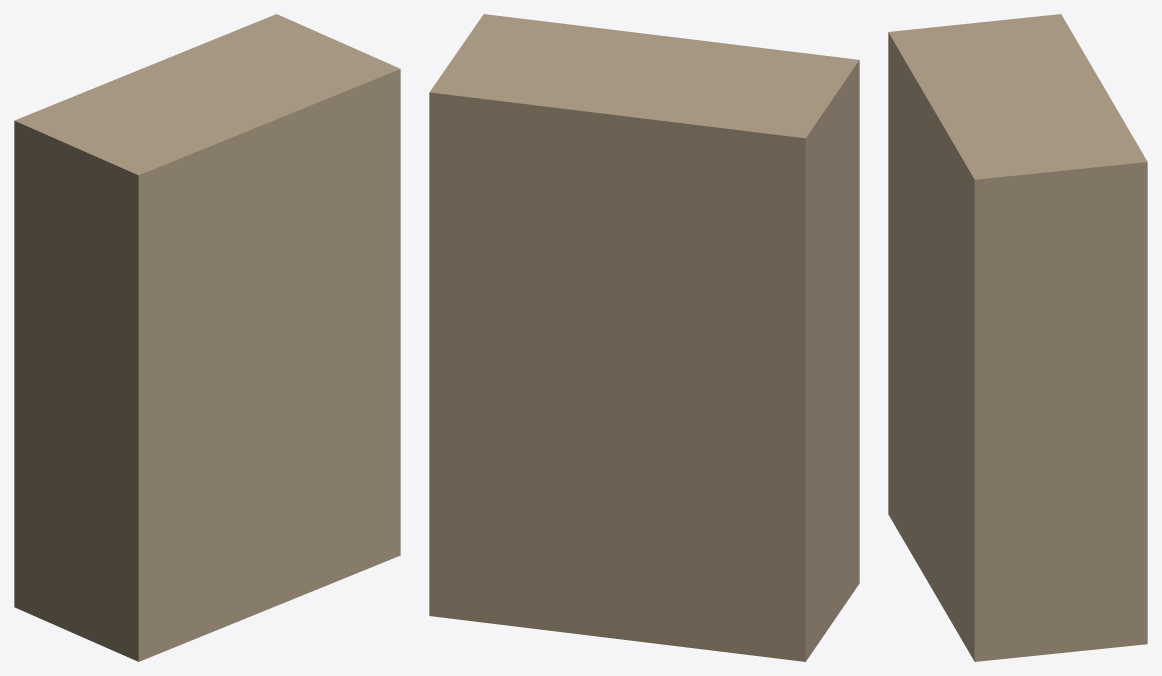
Rendered from bld_107639308.dae.
3 views of the same model, side by side, from view 1: azimuth 30°, elevation 25°; view 2: azimuth 150°, elevation 25°; view 3: azimuth 270°, elevation 25° (orthographic). The views are drawn at different scales.
Parts seen in each view (by area): view 1: bld_107639308; view 2: bld_107639308; view 3: bld_107639308.
Part boxes in pixels (x1,y1,x2,y2): bld_107639308: (14, 14, 400, 661); bld_107639308: (429, 14, 859, 661); bld_107639308: (888, 14, 1147, 661).
Size of the model in its own units: 5.9 by 3.9 by 8.
